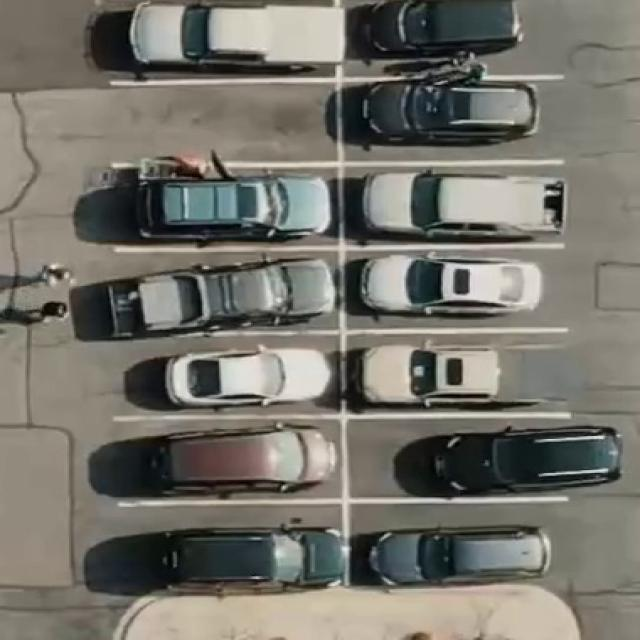empty: (118, 89, 327, 155)
notEmpty: (349, 337, 575, 410), (350, 508, 568, 582), (120, 511, 334, 586), (121, 170, 338, 243), (350, 254, 566, 326), (119, 426, 336, 496), (354, 0, 561, 73), (114, 1, 330, 70), (351, 170, 567, 239), (353, 426, 577, 492), (119, 255, 333, 323), (351, 85, 558, 155), (123, 342, 334, 409)
